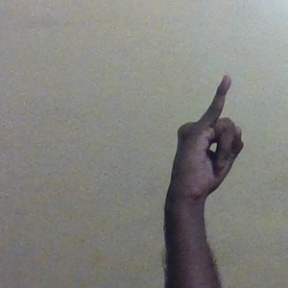I: (167, 73, 243, 203)
